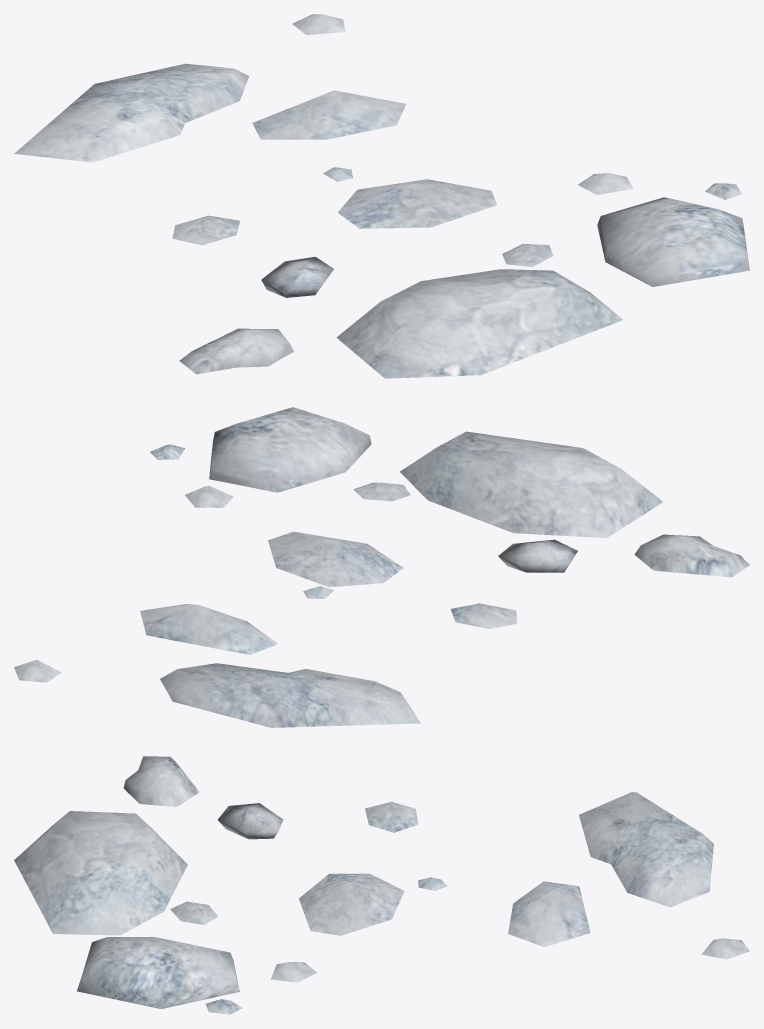
The model's file is Snow_Stone02.FBX.
3 views of the same model, one above another, from view 1: azimuth 30°, elevation 25°; view 2: azimuth 150°, elevation 25°; view 3: azimuth 270°, elevation 25° (orthographic). The views are drawn at different scales.
Parts seen in each view (by area): view 1: Snow_Stone02; view 2: Snow_Stone02; view 3: Snow_Stone02.
Boxes of the visible parts, box(x1,y1,x2,y2) form: Snow_Stone02: box(14, 14, 749, 378); Snow_Stone02: box(14, 407, 749, 727); Snow_Stone02: box(14, 756, 749, 1014).
Size of the model in its own units: 299 by 21.09 by 350.
